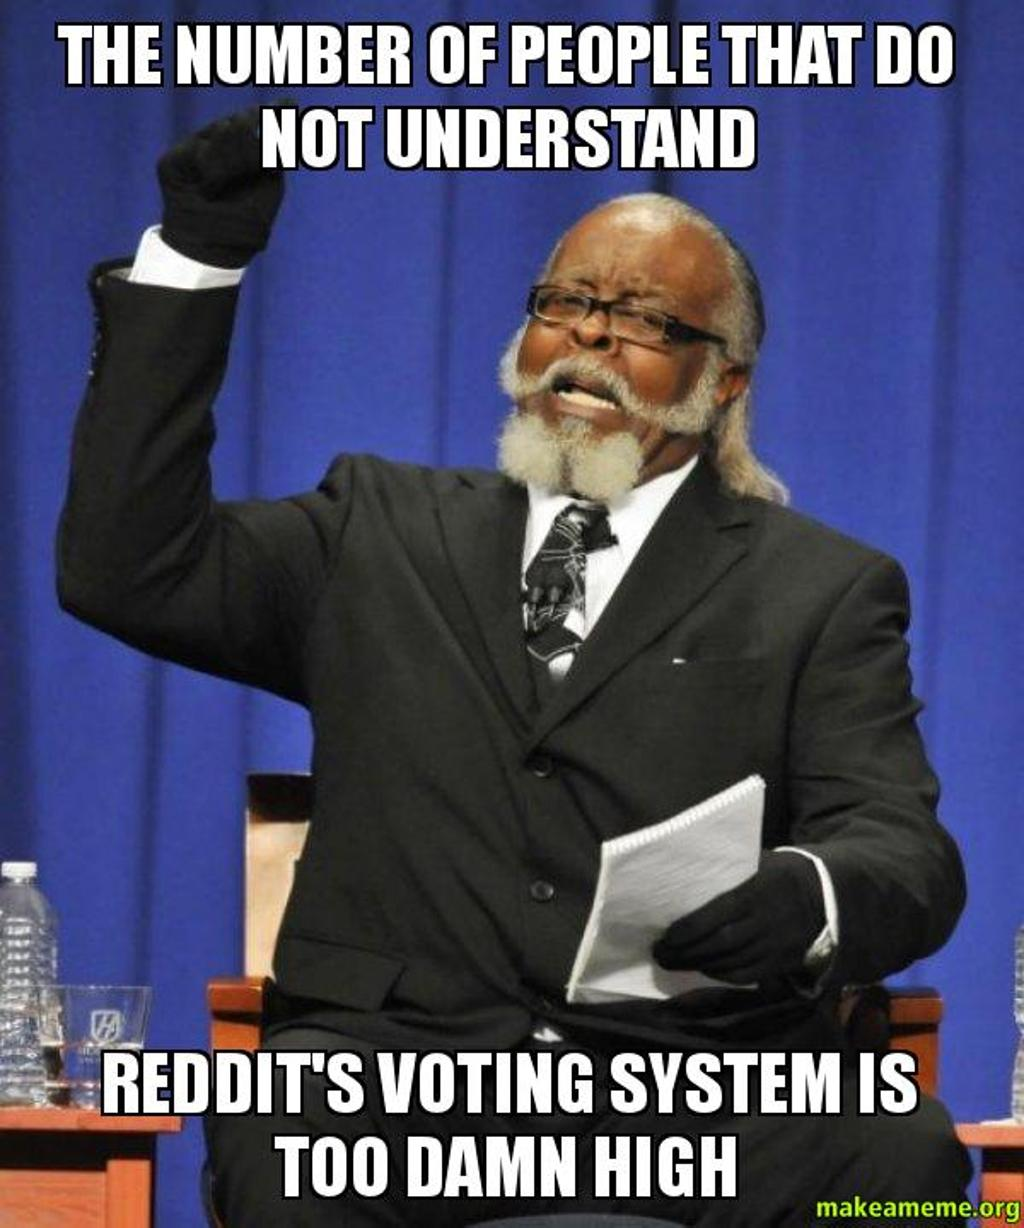face: (523, 206, 729, 465)
